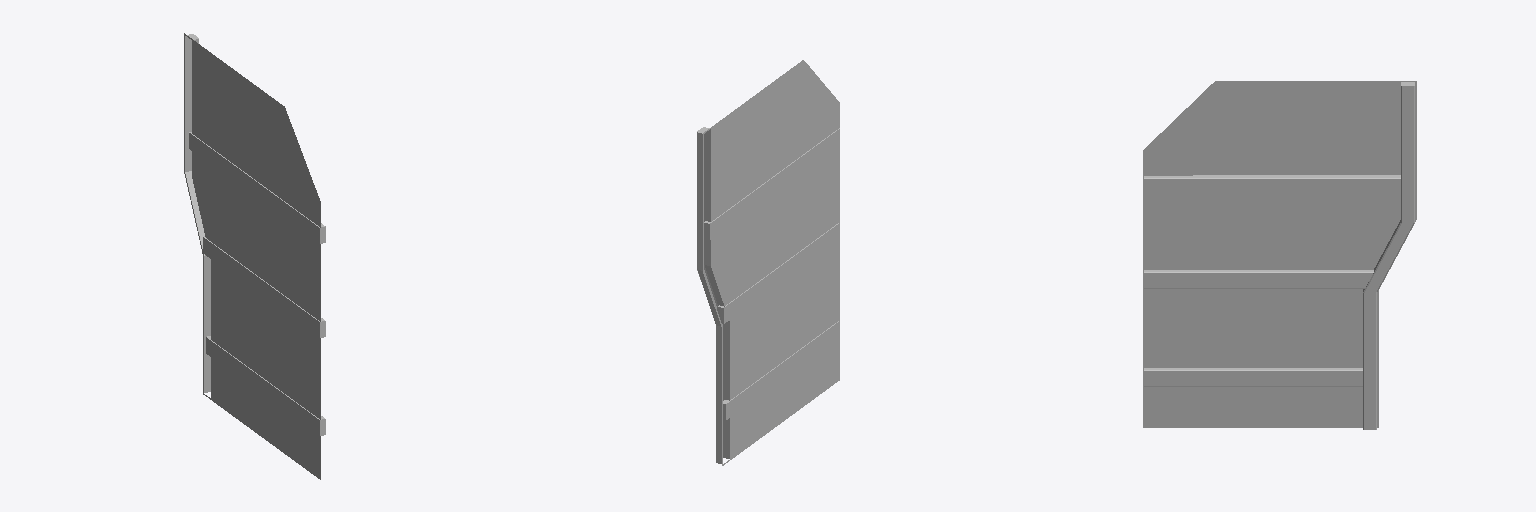
Rendered from PuertaIzquierda.obj.
3 renders of one model, left to right at view 1: azimuth 30°, elevation 25°; view 2: azimuth 150°, elevation 25°; view 3: azimuth 270°, elevation 25°, orthographic.
Visible parts, largest first — view 1: Plane.004; view 2: Plane.004; view 3: Plane.004.
Boxes of the visible parts, x1,y1,x2,y2 form: Plane.004: [184, 33, 325, 479]; Plane.004: [697, 60, 839, 465]; Plane.004: [1143, 81, 1416, 429].
Size of the model in its own units: 0.0781 by 3 by 2.14.